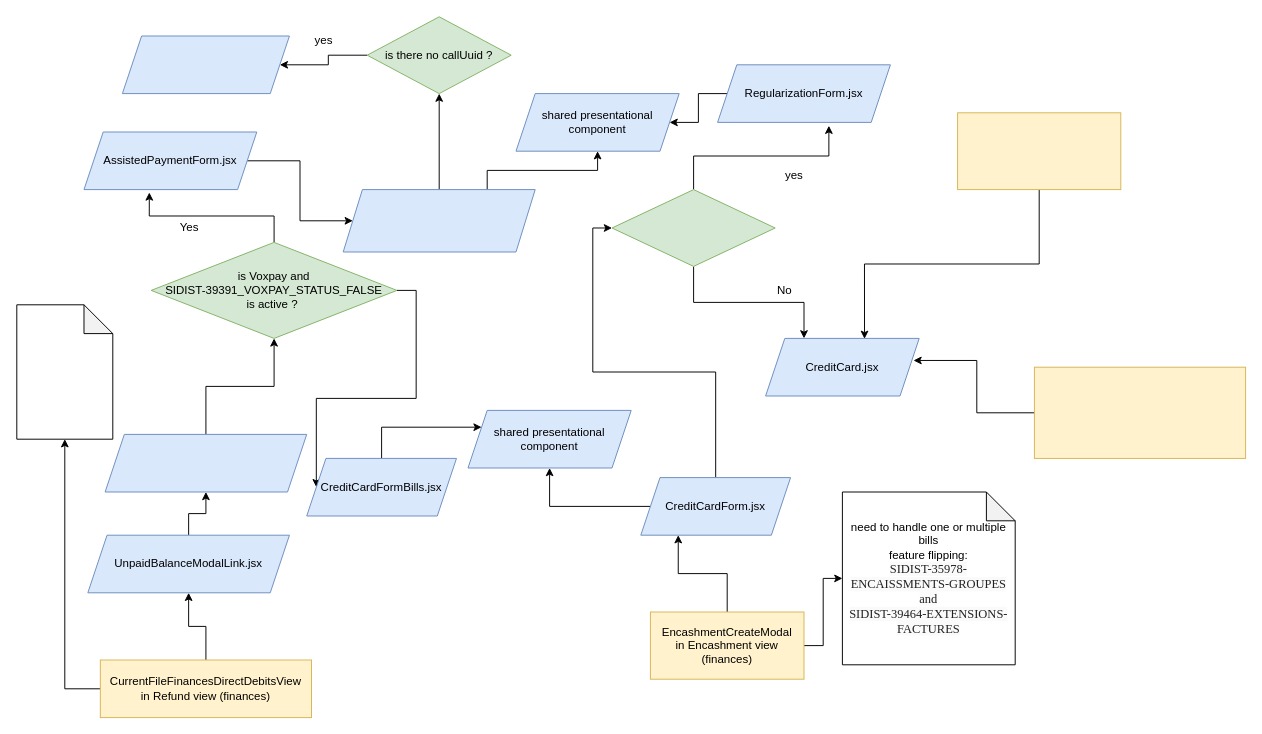
This 1262x734 diagram has some shape labels left out. The shapes that lost their labels are listed below. From the top down, each one's centre as x and y in pixels, then its label:
point (205, 64): DegradedMode.jsx
point (1039, 151): SearchCreateClientPayement in Souscription view
point (438, 220): RegularizationFormVoxpay.jsx
point (693, 227): is Step 1 ?
point (64, 371): need to handle one bill
point (1139, 412): ModifyModal in modfification payment view (finances)
point (205, 462): UnpaidBalanceModal.jsx
